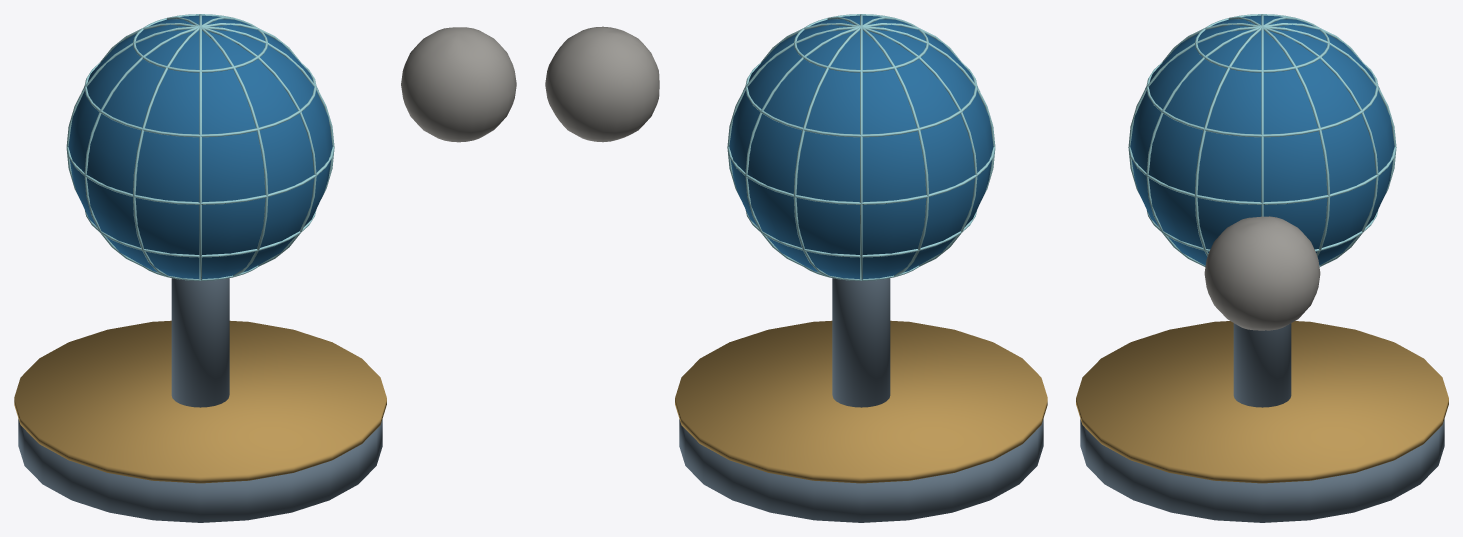
Rendered from earthsky-moon-v1-normal.glb.
3 renders of one model, left to right at view 1: azimuth 30°, elevation 25°; view 2: azimuth 150°, elevation 25°; view 3: azimuth 270°, elevation 25°, orthographic.
Visible parts, largest first — view 1: earth-ocean, brass-trim, weighted-base, moon, pedestal, longitude.005, longitude.004, longitude, latitude.003, longitude.003, longitude.001, latitude.002 (+3 smaller); view 2: earth-ocean, brass-trim, weighted-base, moon, pedestal, longitude.001, longitude.002, longitude, latitude.003, longitude.003, longitude.005, latitude.002 (+3 smaller); view 3: earth-ocean, brass-trim, weighted-base, moon, pedestal, longitude.003, longitude.002, longitude.004, latitude.003, latitude.002, longitude.001, longitude.005 (+2 smaller).
Boxes of the visible parts, x1=… form: earth-ocean: x1=68, y1=15, x2=332, y2=279; brass-trim: x1=14, y1=320, x2=386, y2=483; weighted-base: x1=18, y1=419, x2=382, y2=522; moon: x1=401, y1=27, x2=516, y2=142; pedestal: x1=171, y1=278, x2=229, y2=407; longitude.005: x1=66, y1=26, x2=334, y2=198; longitude.004: x1=100, y1=23, x2=316, y2=266; longitude: x1=84, y1=23, x2=300, y2=266; latitude.003: x1=84, y1=62, x2=316, y2=137; longitude.003: x1=167, y1=16, x2=268, y2=276; longitude.001: x1=133, y1=16, x2=234, y2=276; latitude.002: x1=66, y1=147, x2=334, y2=204; earth-ocean: x1=729, y1=15, x2=993, y2=279; brass-trim: x1=675, y1=320, x2=1047, y2=483; weighted-base: x1=679, y1=419, x2=1043, y2=522; moon: x1=545, y1=26, x2=659, y2=142; pedestal: x1=832, y1=278, x2=890, y2=407; longitude.001: x1=727, y1=26, x2=995, y2=198; longitude.002: x1=745, y1=23, x2=961, y2=266; longitude: x1=761, y1=23, x2=977, y2=266; latitude.003: x1=745, y1=62, x2=977, y2=137; longitude.003: x1=793, y1=16, x2=894, y2=276; longitude.005: x1=827, y1=16, x2=928, y2=276; latitude.002: x1=727, y1=147, x2=995, y2=204; earth-ocean: x1=1130, y1=15, x2=1394, y2=265; brass-trim: x1=1076, y1=321, x2=1448, y2=483; weighted-base: x1=1080, y1=419, x2=1444, y2=522; moon: x1=1204, y1=216, x2=1320, y2=330; pedestal: x1=1233, y1=323, x2=1291, y2=407; longitude.003: x1=1128, y1=26, x2=1396, y2=194; longitude.002: x1=1162, y1=23, x2=1378, y2=266; longitude.004: x1=1146, y1=23, x2=1362, y2=266; latitude.003: x1=1146, y1=62, x2=1378, y2=137; latitude.002: x1=1128, y1=147, x2=1396, y2=204; longitude.001: x1=1228, y1=16, x2=1330, y2=256; longitude.005: x1=1194, y1=16, x2=1296, y2=256.
Bounding box in the file's own units: 0.655 × 0.5593 × 0.45.
